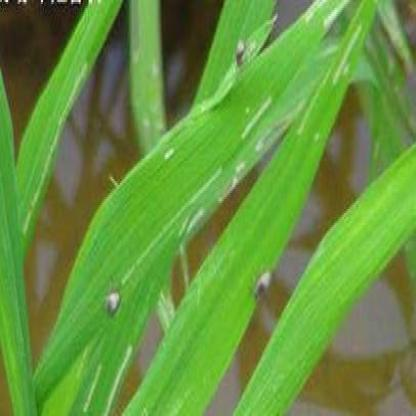rice-bug: (253, 266, 271, 300), (106, 285, 121, 314), (235, 39, 247, 63)
